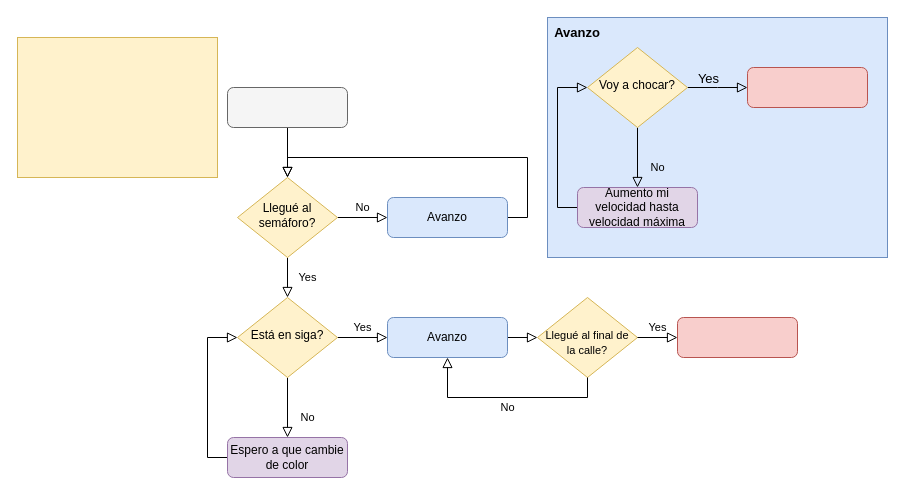
The diagram is 905 pixels wide and 495 high, and some of its shapes have lost their labels. The box of each missing label's shape, as (x1, y1, x2, y2) in pixels:
Aparece coche: (226, 86, 348, 128)
Decisión Se pregunta o regresa yes cuando se activa el trigger o el estado.: (16, 36, 218, 178)
Freno: (746, 66, 868, 108)
Me destruyo: (676, 316, 798, 358)
